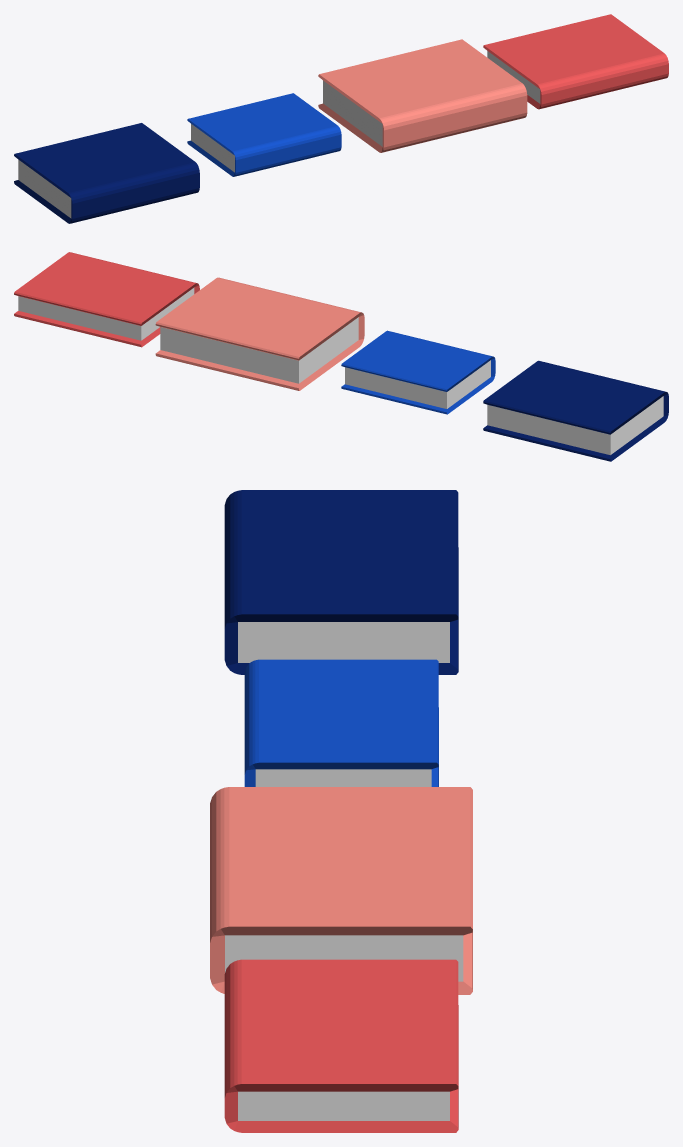
The model's file is Booku.fbx.
The picture shows the model from 3 angles, top to bottom: view 1: azimuth 30°, elevation 25°; view 2: azimuth 150°, elevation 25°; view 3: azimuth 270°, elevation 25°; orthographic projection. The views are drawn at different scales.
Visible parts, largest first — view 1: book_peach, book_blue, book_pinku, book_skyblue; view 2: book_peach, book_blue, book_pinku, book_skyblue; view 3: book_peach, book_pinku, book_blue, book_skyblue.
Part boxes in pixels (x1=…): book_peach: x1=318, y1=39, x2=527, y2=152; book_blue: x1=14, y1=123, x2=199, y2=223; book_pinku: x1=483, y1=14, x2=668, y2=109; book_skyblue: x1=187, y1=93, x2=341, y2=176; book_peach: x1=155, y1=277, x2=364, y2=390; book_blue: x1=483, y1=360, x2=668, y2=461; book_pinku: x1=14, y1=252, x2=199, y2=347; book_skyblue: x1=341, y1=330, x2=495, y2=414; book_peach: x1=210, y1=787, x2=472, y2=994; book_pinku: x1=224, y1=959, x2=458, y2=1132; book_blue: x1=224, y1=490, x2=458, y2=674; book_skyblue: x1=244, y1=659, x2=438, y2=786.
Size of the model in its own units: 937 by 51.17 by 179.
4 materials, 4 textured.
